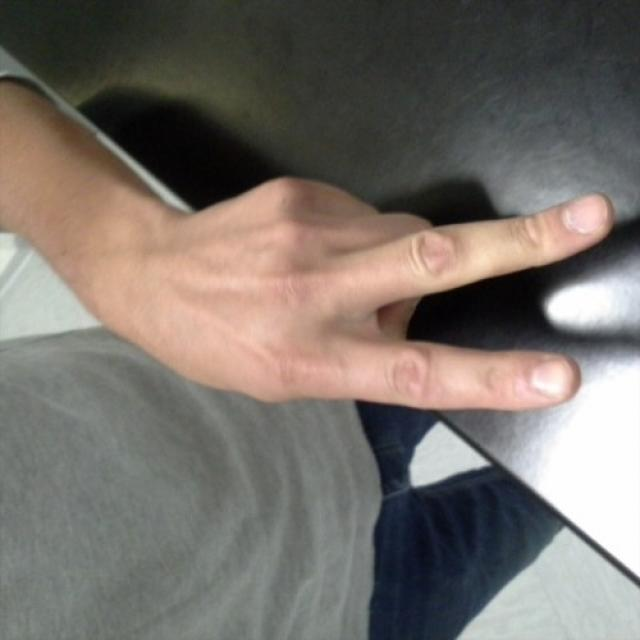scissors: (278, 176, 616, 410)
